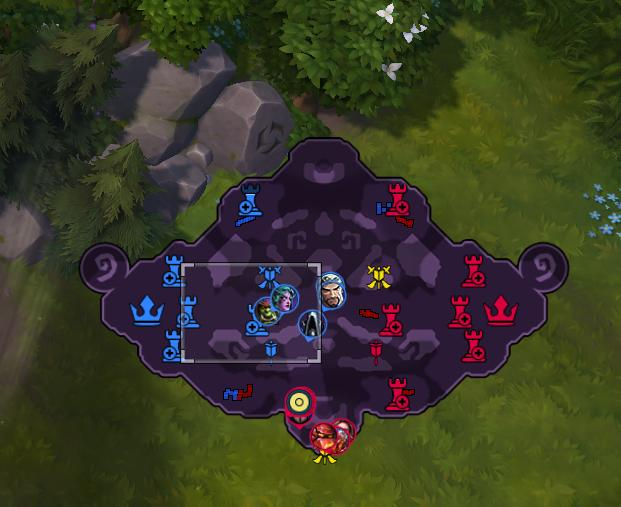blue nexus: (128, 291, 168, 328)
blue player: (317, 272, 346, 309), (298, 308, 325, 340), (270, 284, 297, 313), (252, 297, 279, 326)
blue tower: (234, 181, 262, 227), (161, 253, 186, 288), (176, 294, 200, 328), (161, 326, 182, 362)
red nexus: (482, 294, 519, 325)
red player: (284, 386, 315, 425), (308, 422, 338, 454), (331, 418, 357, 453), (332, 427, 349, 453)
red tower: (385, 376, 413, 411), (460, 252, 486, 288), (446, 294, 472, 329), (460, 328, 486, 363), (385, 181, 409, 216), (379, 302, 403, 336)
